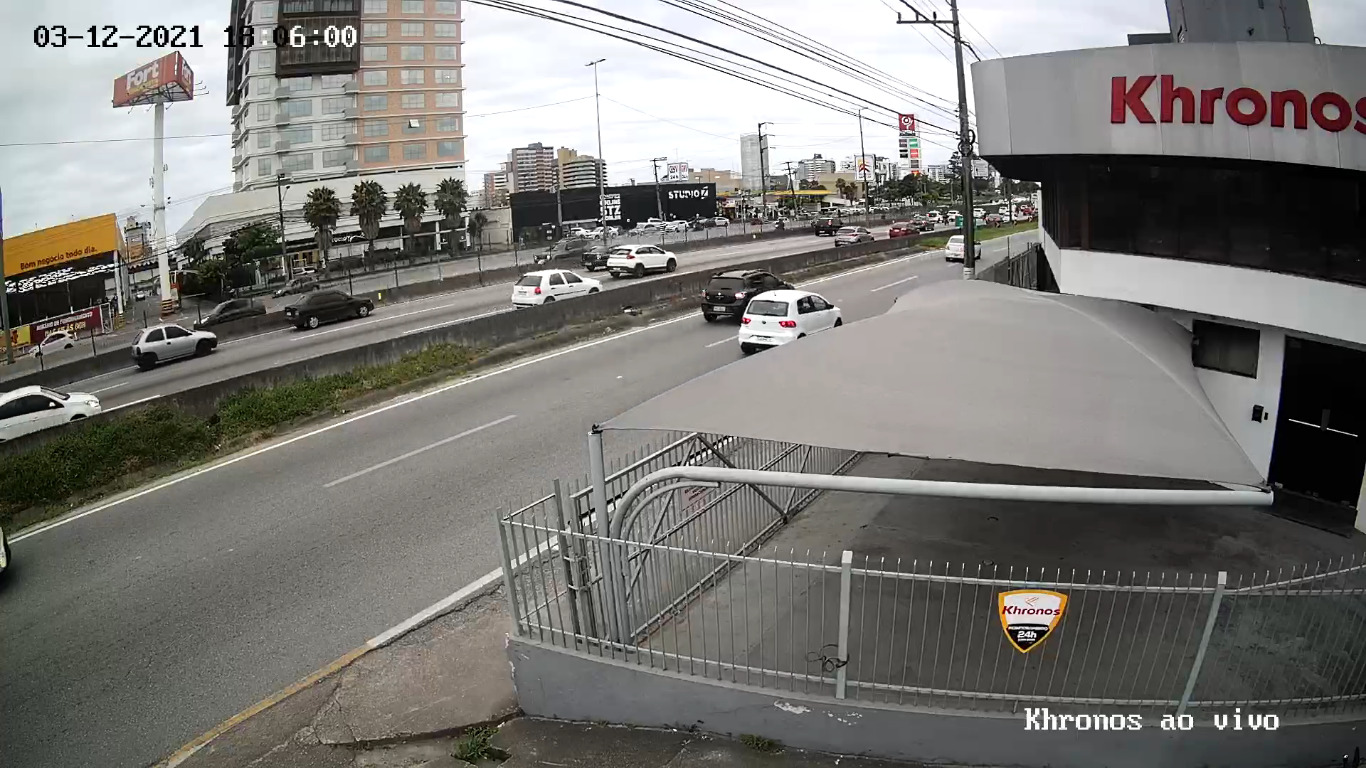car: (737, 288, 846, 355), (1, 382, 104, 448), (699, 266, 797, 324), (128, 321, 218, 371), (510, 268, 605, 310), (283, 288, 374, 331), (603, 242, 679, 280), (944, 233, 983, 265)
